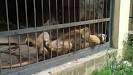lion: (26, 23, 111, 58)
